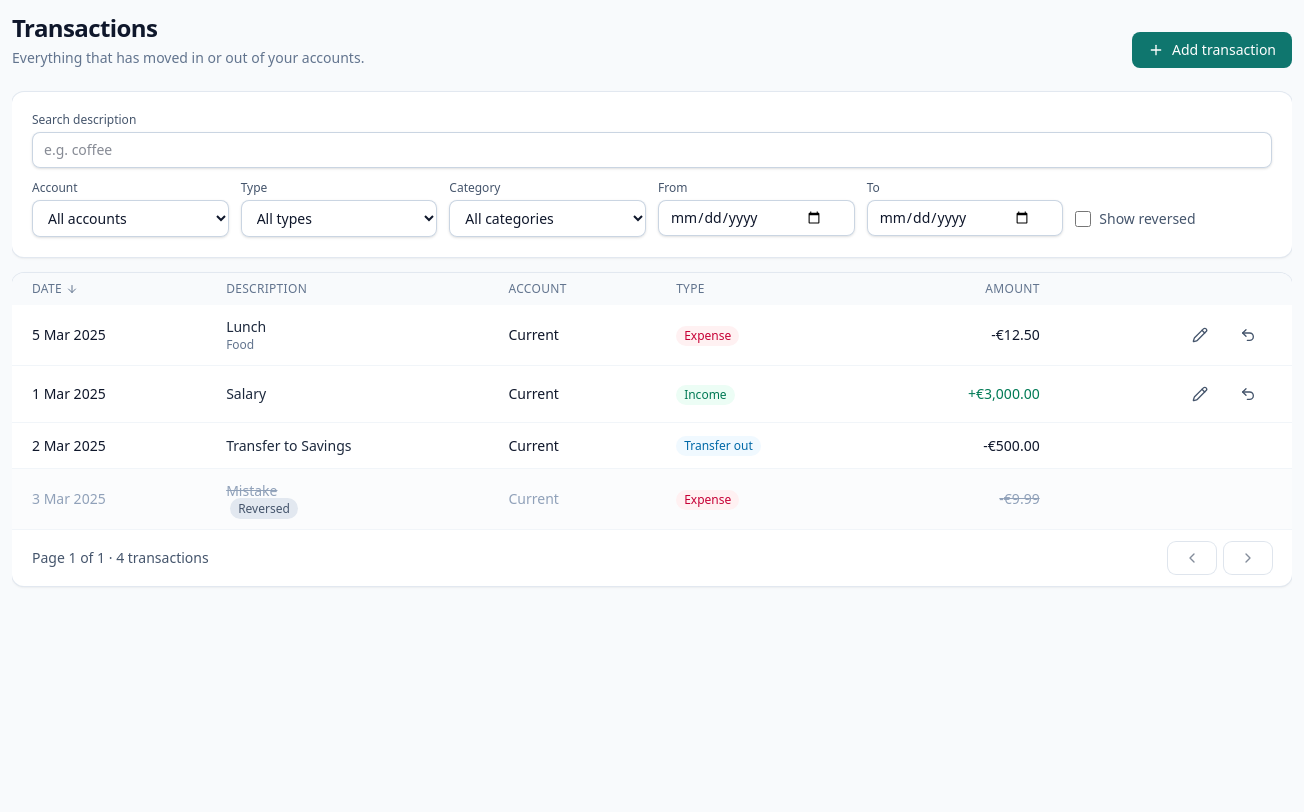
Test: TransactionsPage › searches the description after a short pause and sends it as q
The width and height of the screenshot is (1304, 812).
Expected: the text "Lunch" is shown, 226,317 -> 266,336
Step 1. Type "coffee" into the search field labelled "Search description" → (652,150), box 32,132 -> 1272,168
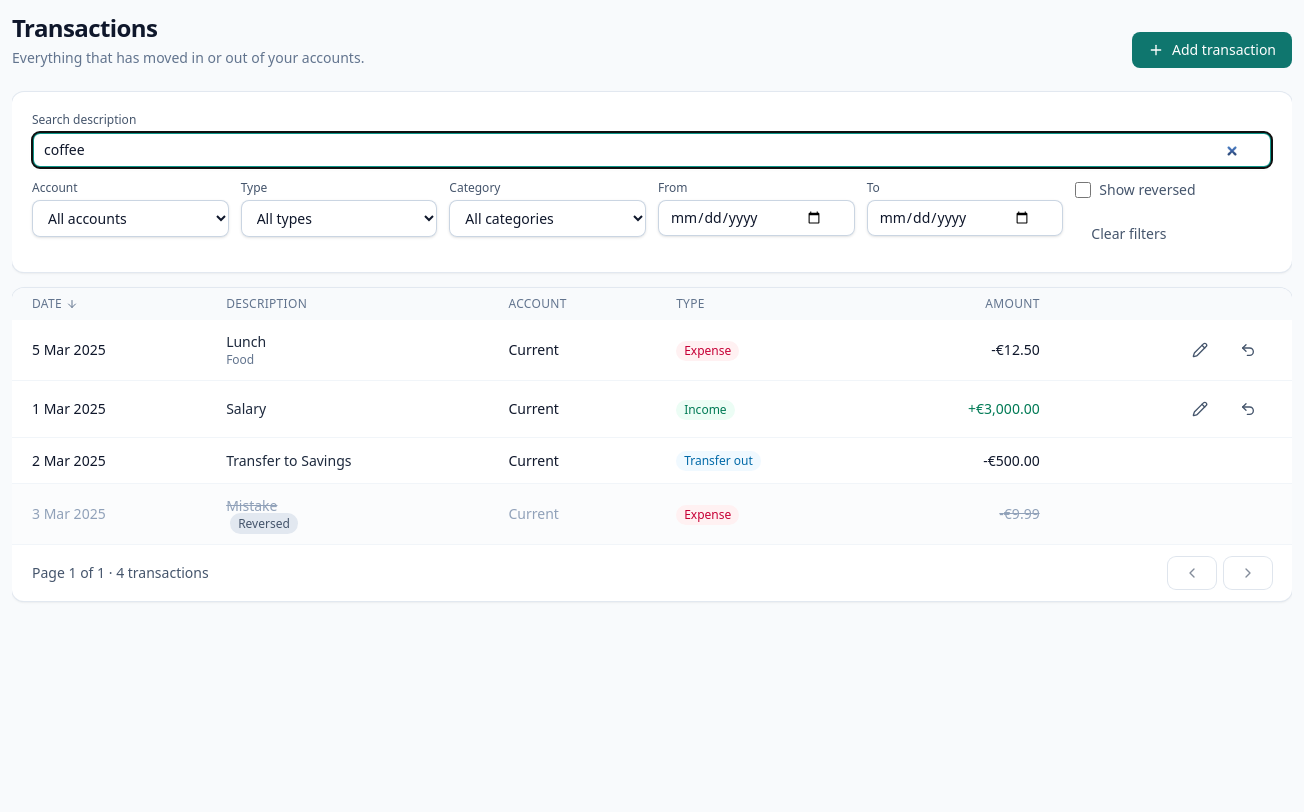
Expected: the button "Clear filters" is shown, 1075,216 -> 1182,252
